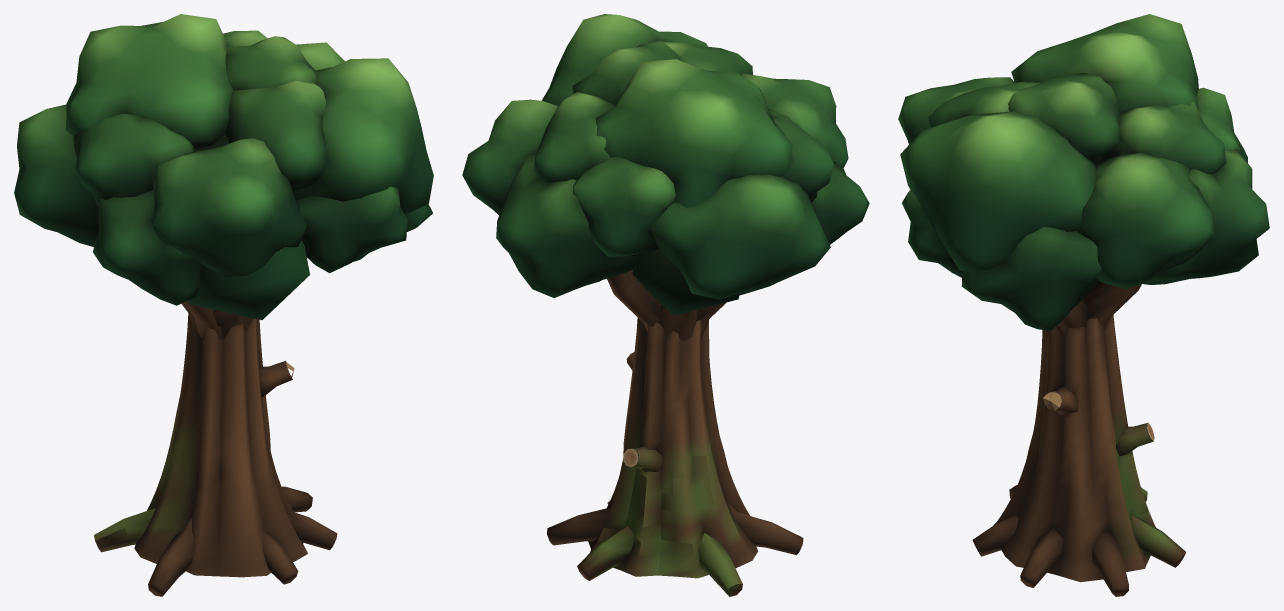
File: tree-big-v1.glb
3 views of the same model, side by side, from view 1: azimuth 30°, elevation 25°; view 2: azimuth 150°, elevation 25°; view 3: azimuth 270°, elevation 25° (orthographic). The views are drawn at different scales.
Visible parts, largest first — view 1: 1_leaves, 0_trunk; view 2: 1_leaves, 0_trunk; view 3: 1_leaves, 0_trunk.
Part boxes in pixels (x1,y1,x2,y2): 1_leaves: (14, 14, 433, 320); 0_trunk: (94, 301, 337, 596); 1_leaves: (462, 14, 869, 315); 0_trunk: (547, 270, 803, 596); 1_leaves: (898, 14, 1269, 330); 0_trunk: (972, 281, 1185, 596).
Size of the model in its own units: 6.04 by 8.8 by 5.86.
